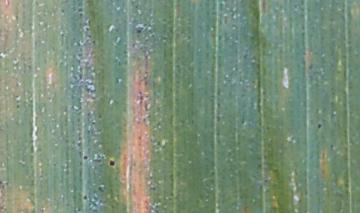tarspot: (134, 25, 145, 35), (107, 159, 116, 167), (316, 123, 323, 131), (82, 154, 89, 162), (82, 193, 88, 200)
